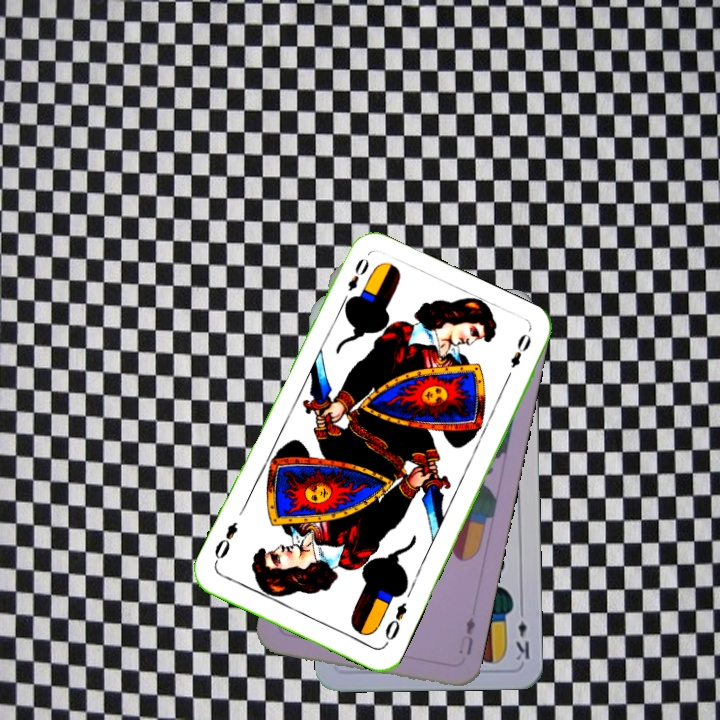EK: (512, 604, 532, 663)
EO: (337, 254, 372, 308), (381, 598, 410, 643)
EU: (455, 613, 478, 658)
